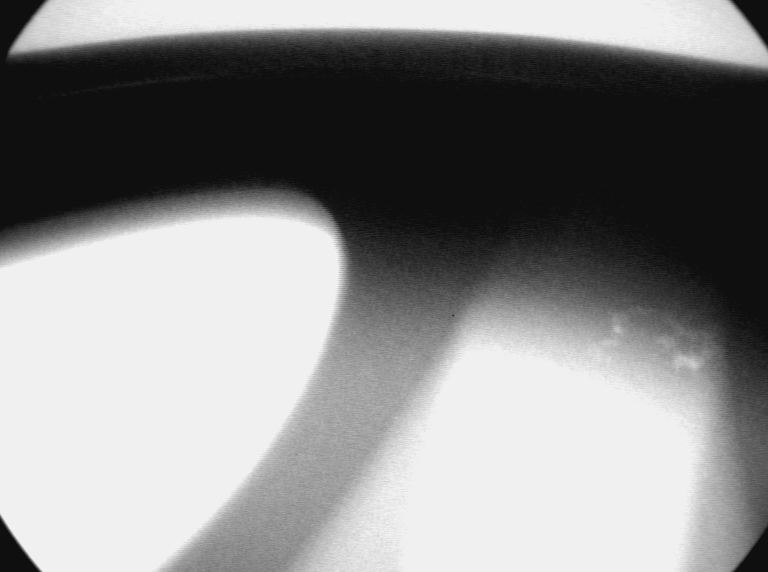defect: (588, 293, 731, 379)
